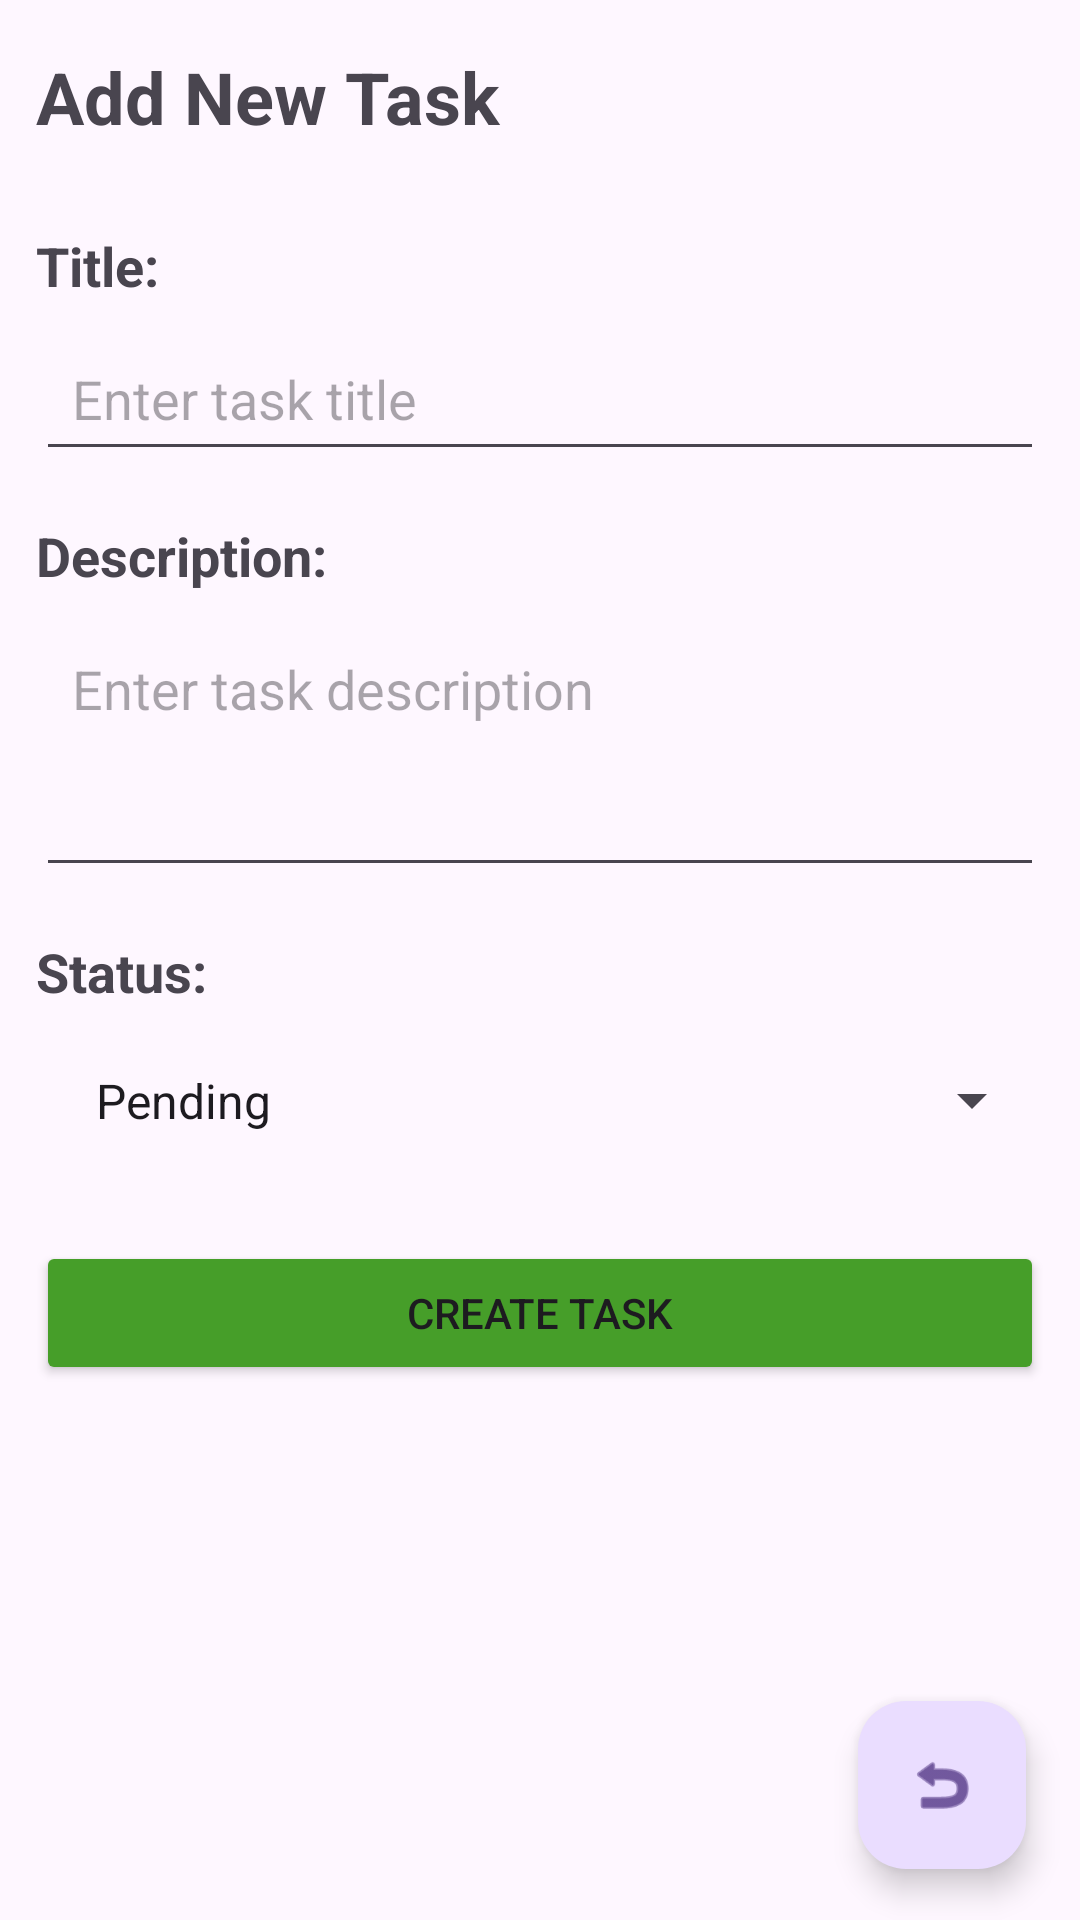

Point at icon controls on the screen. Image size 1080*1920, points as (x,y).
Return: (942,1785)
